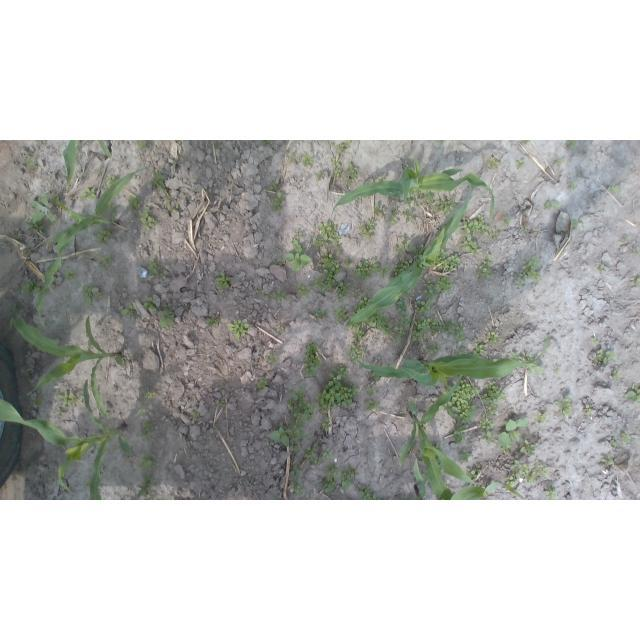Maize: (34, 170, 141, 327), (0, 378, 132, 500), (348, 193, 469, 325), (7, 314, 123, 416), (398, 376, 484, 501), (330, 155, 496, 218), (359, 334, 552, 388), (404, 456, 527, 500), (64, 141, 113, 188)
Weeds: (316, 373, 360, 413), (445, 377, 481, 425), (287, 383, 318, 421), (31, 192, 59, 226), (498, 417, 529, 446), (458, 211, 490, 237), (363, 309, 393, 336), (393, 296, 411, 341), (317, 220, 344, 248), (312, 267, 340, 293), (413, 317, 451, 336), (267, 421, 293, 448), (519, 256, 544, 284), (433, 248, 462, 272), (303, 343, 322, 378), (319, 463, 340, 493), (511, 460, 538, 483), (353, 258, 379, 280), (481, 382, 507, 403), (285, 252, 312, 272), (446, 319, 466, 345), (432, 196, 457, 216), (391, 257, 412, 280), (340, 467, 359, 492), (81, 285, 103, 306), (227, 319, 250, 339), (479, 417, 495, 445), (319, 251, 341, 271), (138, 476, 155, 501), (21, 278, 47, 294), (288, 418, 306, 441), (592, 348, 617, 364), (353, 296, 372, 317), (460, 236, 481, 255), (554, 398, 573, 418), (357, 483, 379, 500), (140, 207, 156, 230), (624, 381, 640, 404), (159, 307, 175, 329), (55, 391, 78, 406), (347, 343, 366, 361), (348, 320, 365, 340), (304, 445, 320, 466), (436, 275, 453, 294), (215, 273, 232, 292), (136, 453, 155, 470), (453, 424, 468, 445), (143, 295, 160, 313), (360, 220, 375, 240), (337, 282, 352, 302), (423, 280, 438, 300), (424, 338, 440, 356), (413, 301, 432, 316), (26, 219, 45, 234), (422, 190, 435, 211), (288, 481, 304, 498), (520, 440, 537, 456), (95, 228, 111, 245), (151, 171, 165, 190), (527, 362, 545, 376), (478, 264, 493, 280), (466, 464, 481, 480), (127, 195, 141, 212), (405, 189, 422, 203), (79, 188, 97, 201), (472, 343, 487, 358), (394, 240, 411, 253), (148, 259, 161, 276), (142, 420, 152, 441), (335, 307, 348, 323), (488, 329, 501, 345), (119, 304, 135, 317), (272, 192, 282, 212), (26, 155, 37, 173), (535, 463, 549, 477), (255, 377, 269, 391), (413, 245, 426, 260), (290, 463, 303, 478), (292, 239, 305, 254), (335, 140, 351, 152), (488, 156, 501, 170), (64, 267, 77, 281), (365, 399, 378, 412), (601, 455, 614, 468), (544, 487, 557, 500), (511, 351, 524, 364), (374, 204, 387, 217), (296, 283, 308, 297), (619, 430, 631, 444), (314, 308, 329, 319), (265, 181, 279, 192), (482, 253, 493, 267), (99, 254, 113, 265), (544, 201, 561, 210), (347, 164, 357, 179), (607, 184, 622, 194), (321, 448, 333, 460), (322, 416, 331, 432), (536, 411, 548, 423), (303, 153, 314, 166), (487, 403, 498, 416), (410, 331, 423, 342), (498, 443, 512, 453), (405, 208, 415, 222), (269, 292, 286, 300), (459, 450, 471, 461), (516, 158, 527, 170), (310, 237, 322, 248), (331, 155, 341, 168), (379, 264, 389, 277), (265, 356, 279, 365), (104, 175, 115, 186), (504, 476, 516, 486), (136, 140, 149, 149), (371, 175, 385, 183), (371, 371, 382, 381), (431, 441, 441, 452), (571, 219, 582, 229), (459, 346, 470, 356), (144, 390, 155, 400), (566, 140, 578, 149), (208, 317, 220, 326), (167, 204, 179, 213), (612, 369, 622, 379), (553, 158, 563, 168), (290, 444, 301, 453), (584, 404, 592, 416), (331, 171, 341, 180), (84, 479, 93, 489), (503, 217, 513, 226), (192, 410, 201, 420), (32, 398, 42, 407), (139, 404, 146, 416), (596, 264, 605, 273), (276, 324, 285, 333), (567, 182, 577, 190), (315, 172, 323, 181), (610, 440, 618, 449), (631, 277, 640, 285), (492, 229, 500, 238), (524, 352, 532, 361), (294, 230, 303, 238), (56, 407, 65, 415), (163, 196, 171, 205), (591, 336, 599, 344), (218, 400, 226, 408), (367, 386, 374, 395), (10, 303, 17, 312), (272, 259, 282, 265), (260, 140, 270, 145), (434, 141, 444, 146), (391, 212, 398, 219), (286, 152, 294, 158), (355, 288, 361, 296), (514, 281, 520, 289), (523, 140, 532, 145), (344, 177, 350, 184), (519, 226, 525, 233), (344, 260, 351, 266), (254, 287, 260, 293), (554, 368, 560, 373), (413, 202, 417, 207)
